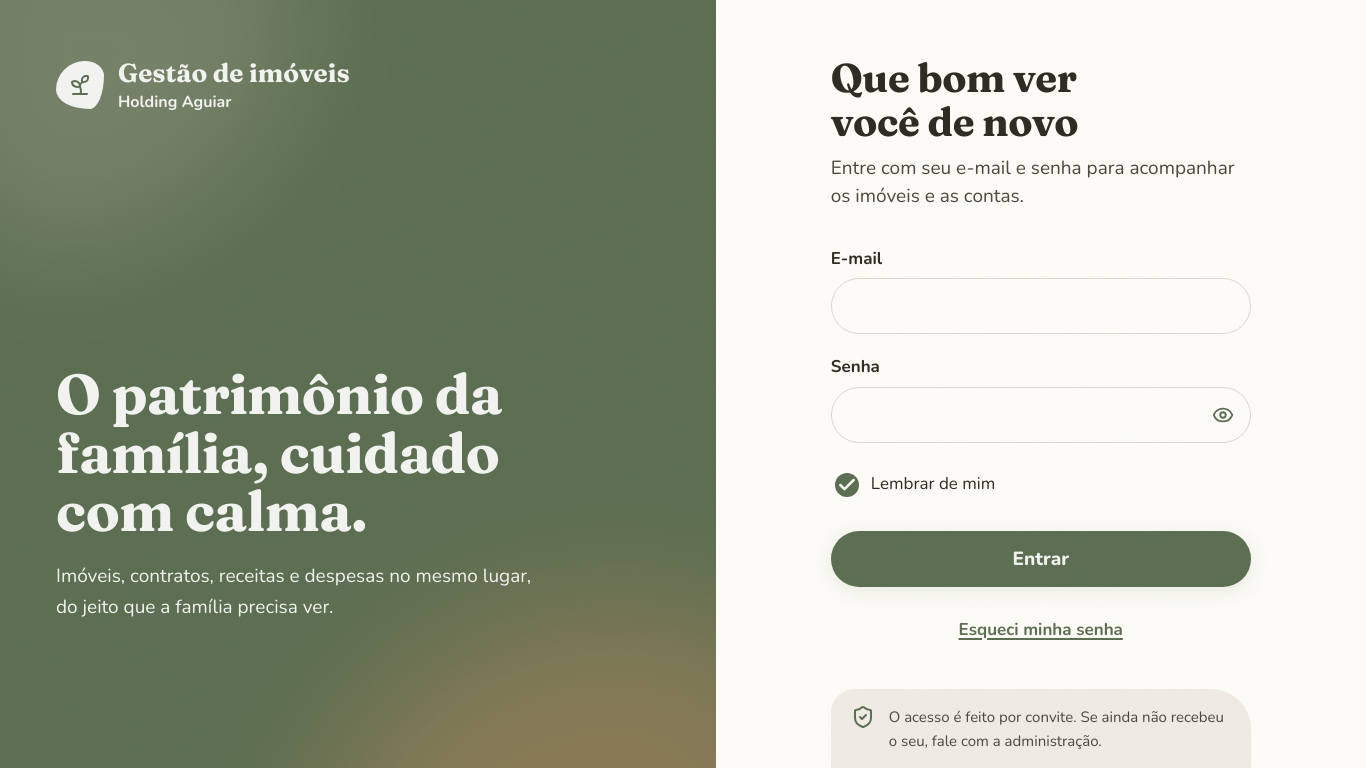
Login › lista os campos que faltam e foca o resumo
Click the button "Entrar": click(1041, 559) [831,531,1251,587]
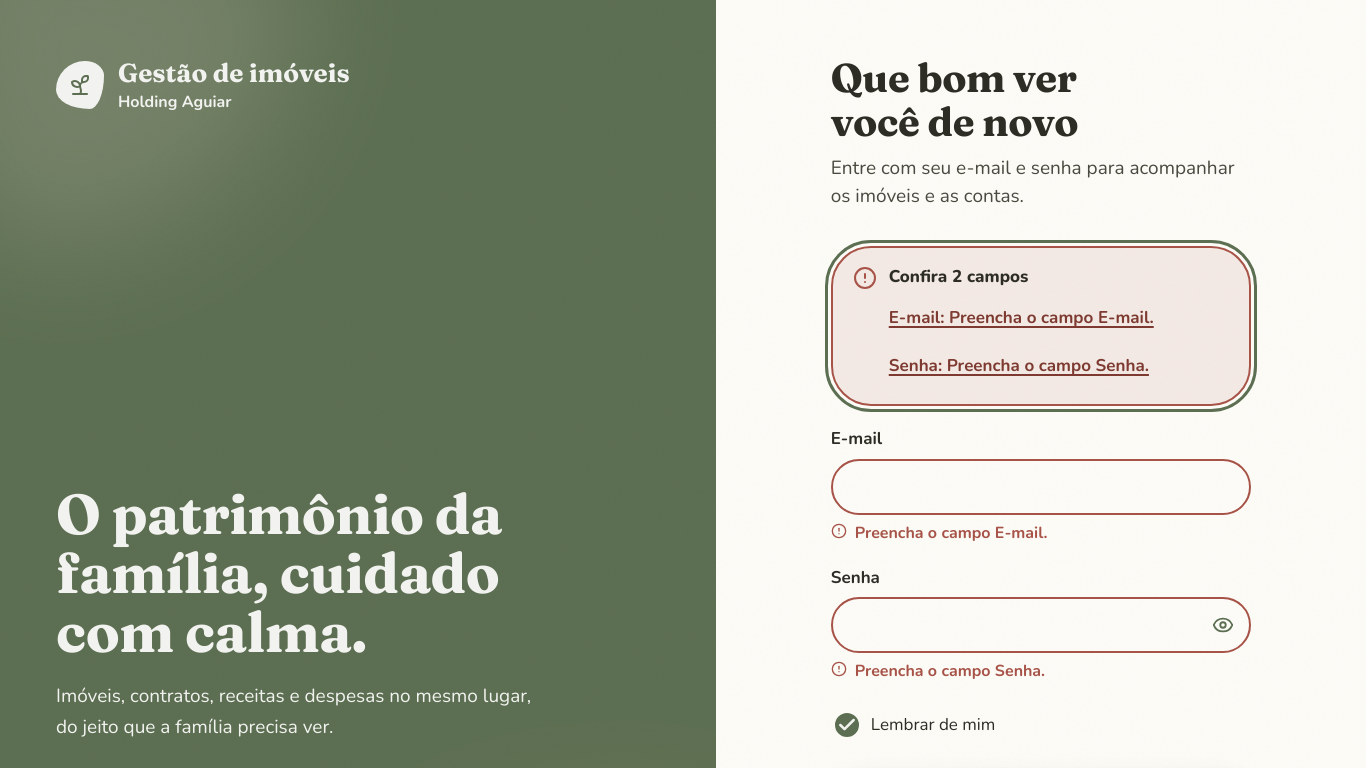
Result: the message shows "Confira 2 campos" at [889,265,1028,288]
Result: the message shows "Preencha o campo E-mail." at [889,296,1154,340]
Result: the message shows "Preencha o campo Senha." at [889,344,1149,388]
